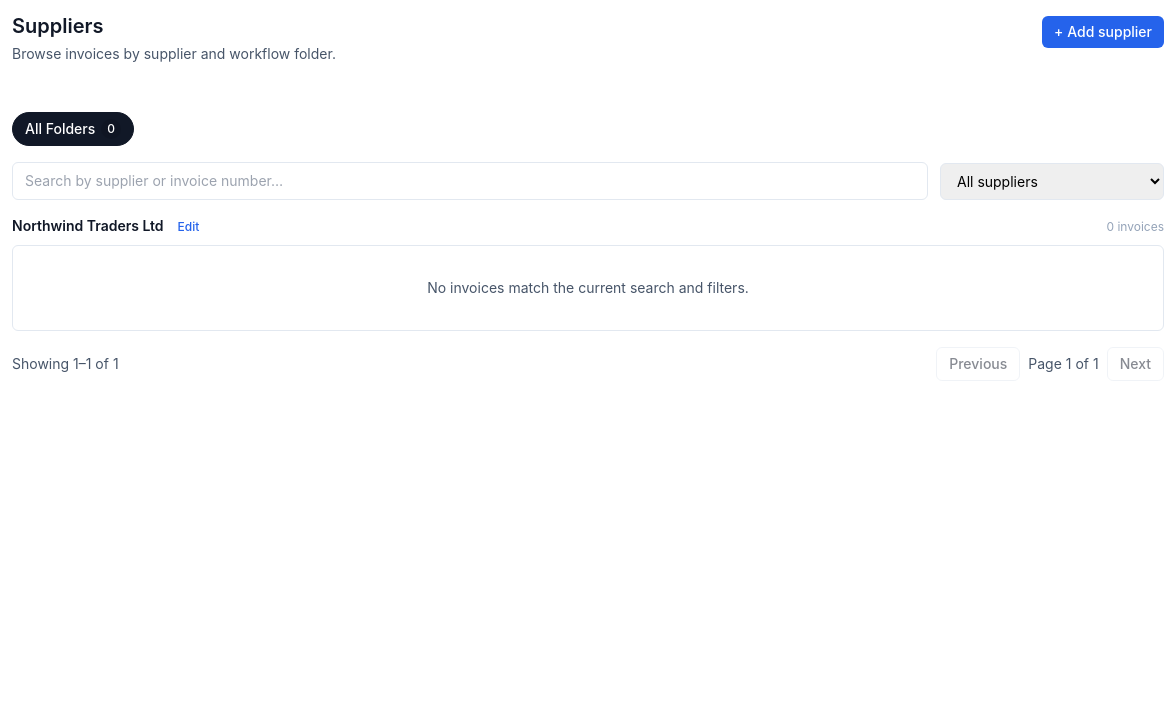
Scenario: SuppliersPage — create/edit wiring (WP-027) › opens the Edit form for the group's resolved Supplier when its Edit action is clicked
The width and height of the screenshot is (1176, 724).
Step 1. Click the button "Edit" → [188, 227], box left=172, top=217, right=205, bottom=237
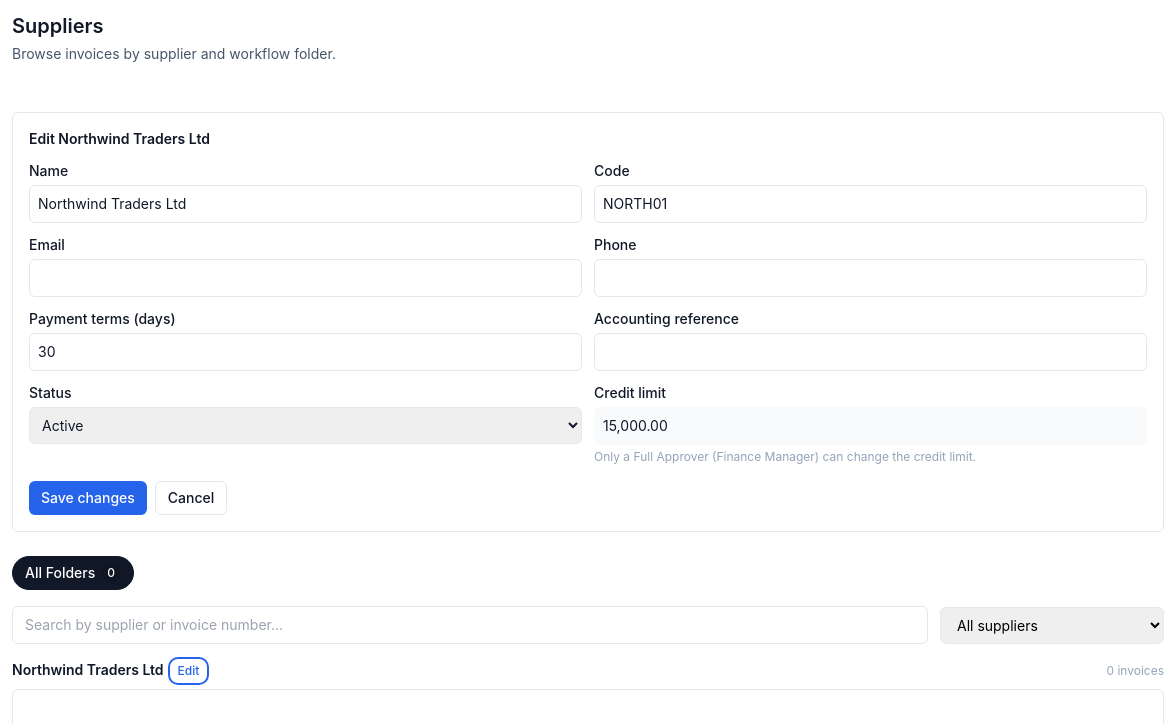
Expected: the heading "Edit Northwind Traders Ltd" is shown, left=29, top=130, right=210, bottom=147
Expected: the field labelled "Name" holds "Northwind Traders Ltd", left=29, top=185, right=582, bottom=223
